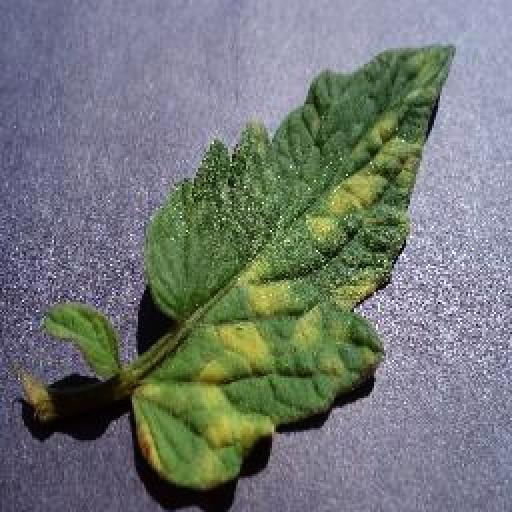disease_tomato: (124, 42, 458, 492)
